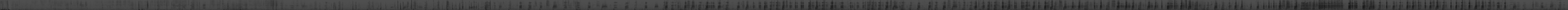Moan: (1348, 0, 1351, 10)
